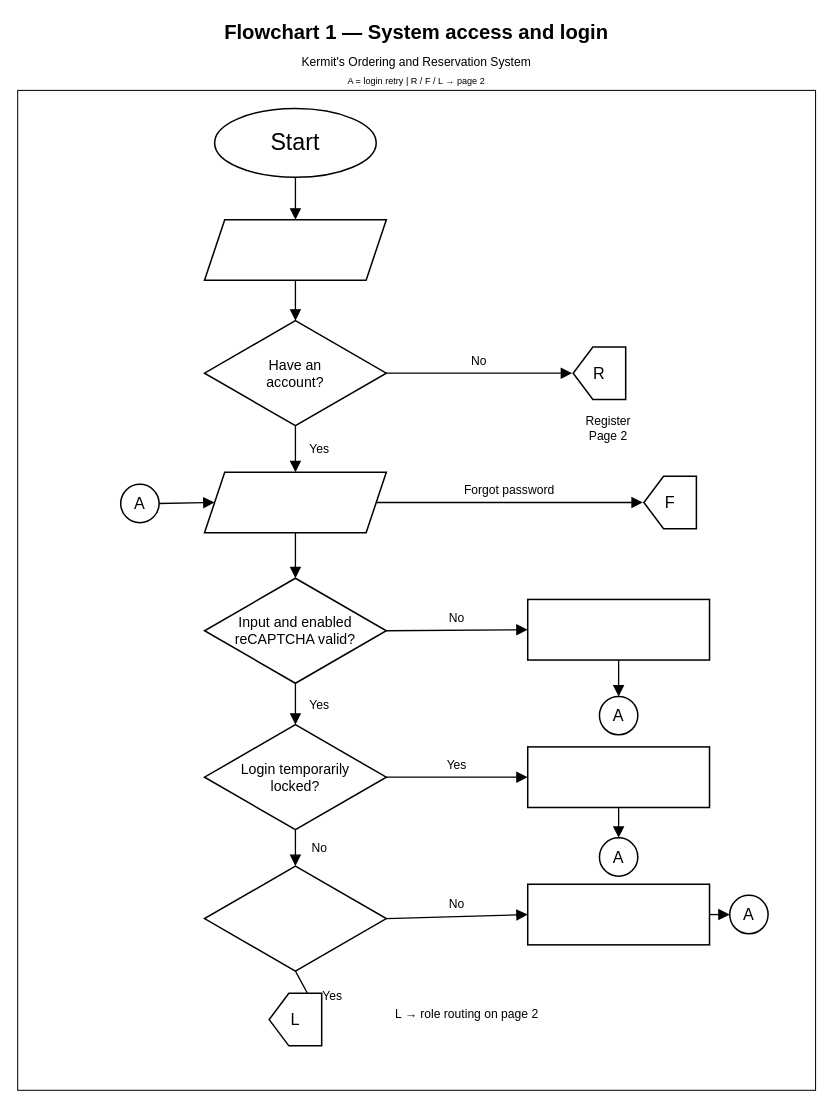
The diagram is 833 pixels wide and 1108 high, and some of its shapes have lost their labels. The shapes that lost their labels are listed below. From the top down, each one's centre as x and y in pixels, then its label:
the point at 295,249: Open the system website
the point at 295,502: Enter email and password
the point at 618,629: Show input error
the point at 618,777: Show retry delay
the point at 295,918: Credentials correct?
the point at 618,914: Record failure; show error or lockout
